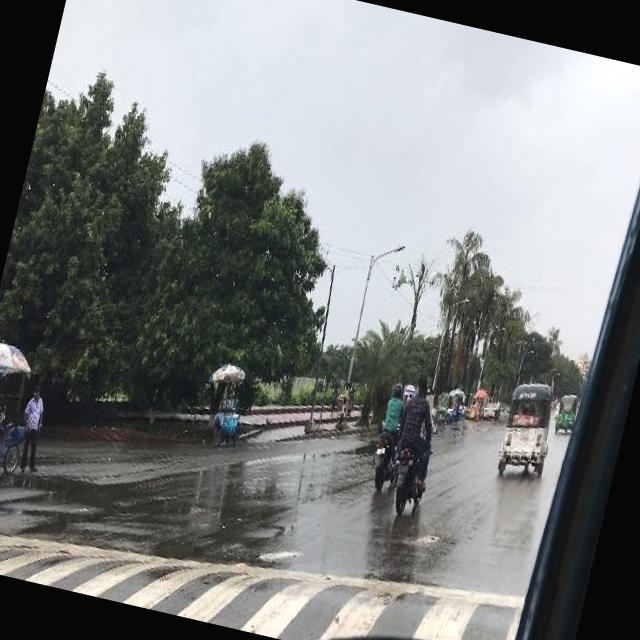car: (481, 398, 495, 416)
motorcycle: (382, 371, 439, 513), (490, 374, 561, 484), (366, 376, 410, 489), (552, 388, 582, 434), (428, 388, 454, 434)
